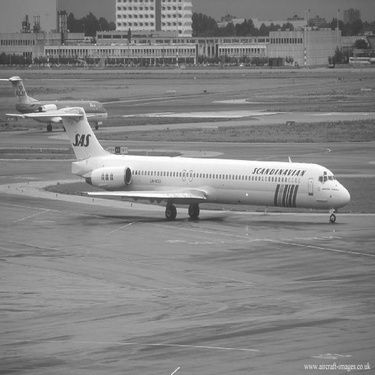airplane: (11, 90, 360, 233), (1, 71, 112, 132)
